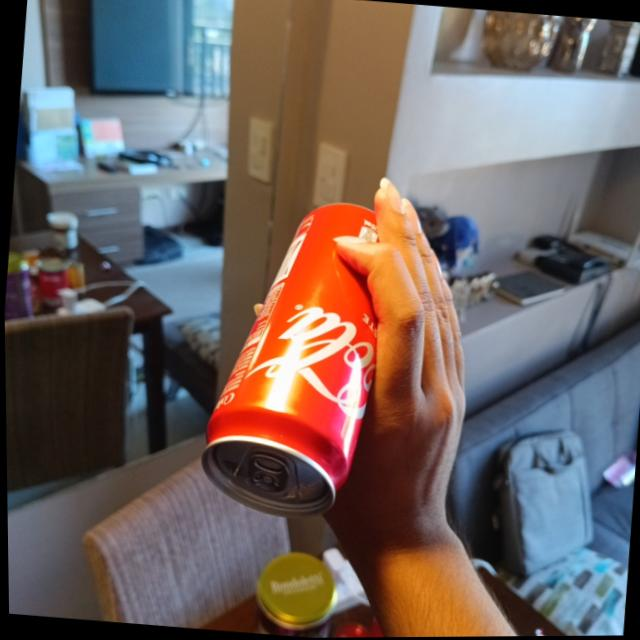coke: (193, 193, 385, 519)
